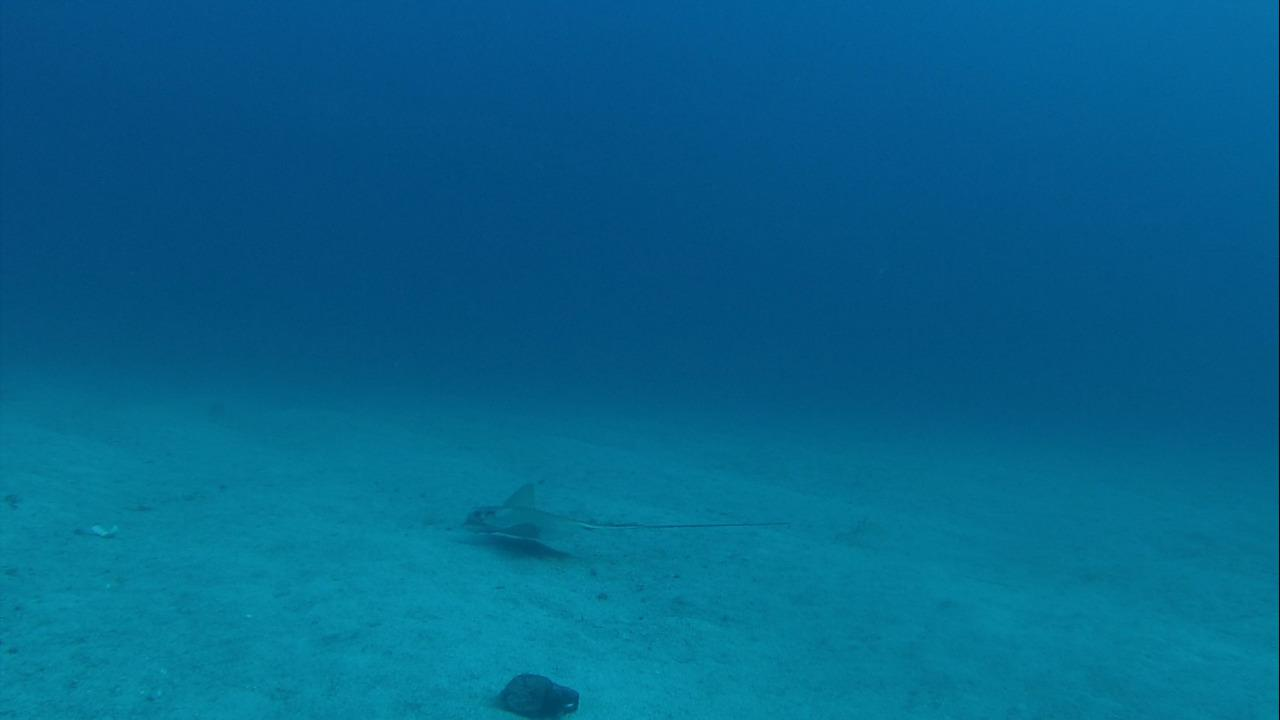myliobatis: (455, 478, 753, 556)
